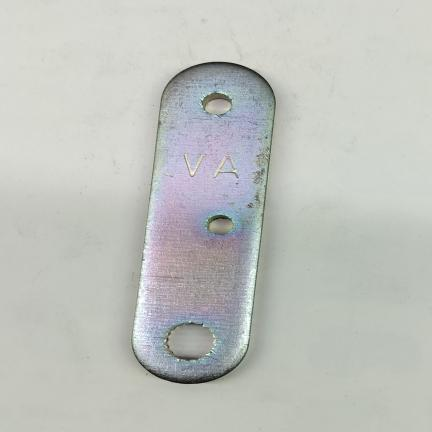black mark after electroplating: (250, 141, 268, 213)
